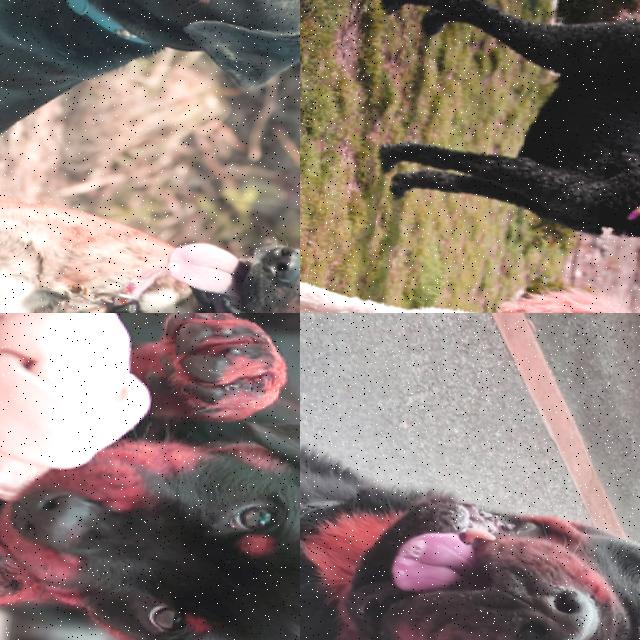poodle: (587, 140, 640, 313)
rottweiler: (0, 343, 300, 640), (300, 431, 640, 640), (76, 0, 300, 117), (131, 186, 300, 313)
